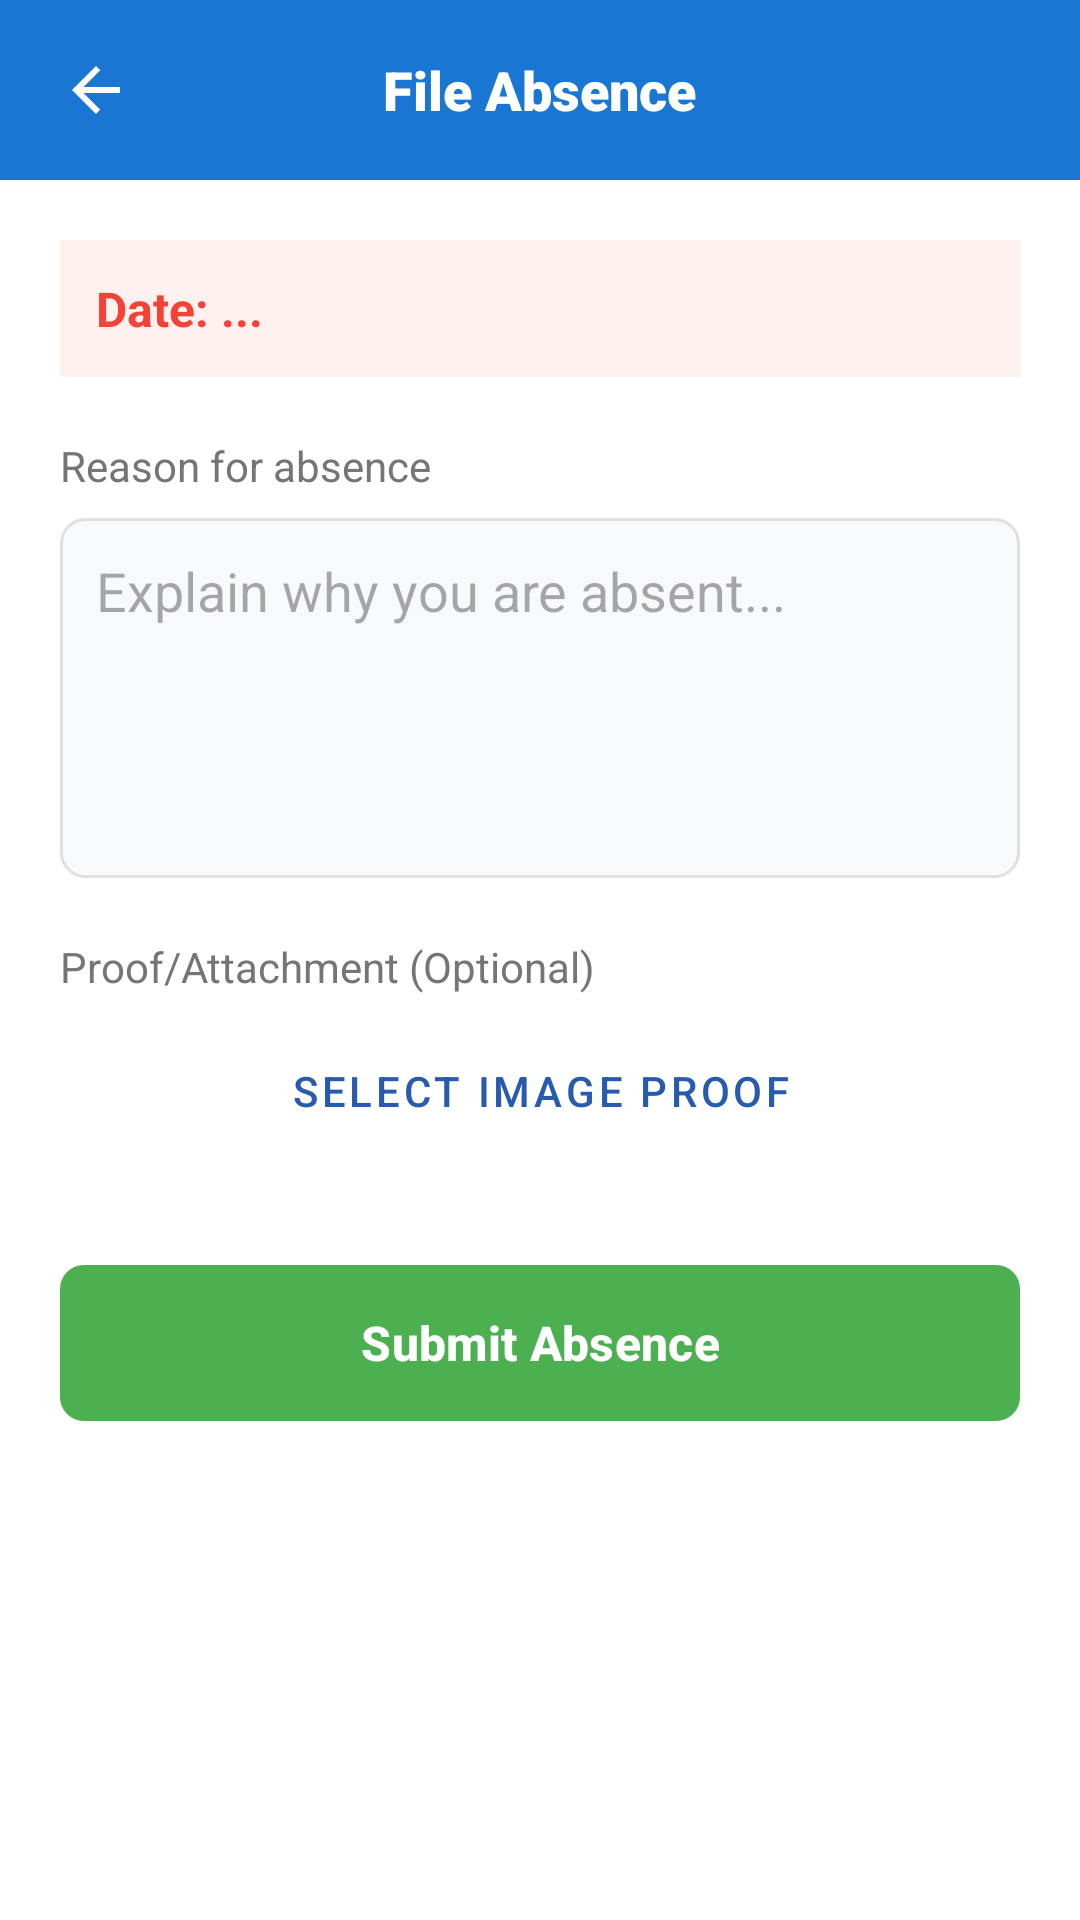

Point at icon controls on the screen. Image size 1080 x 1920, points as (x,y).
arrow back: (96,90)
